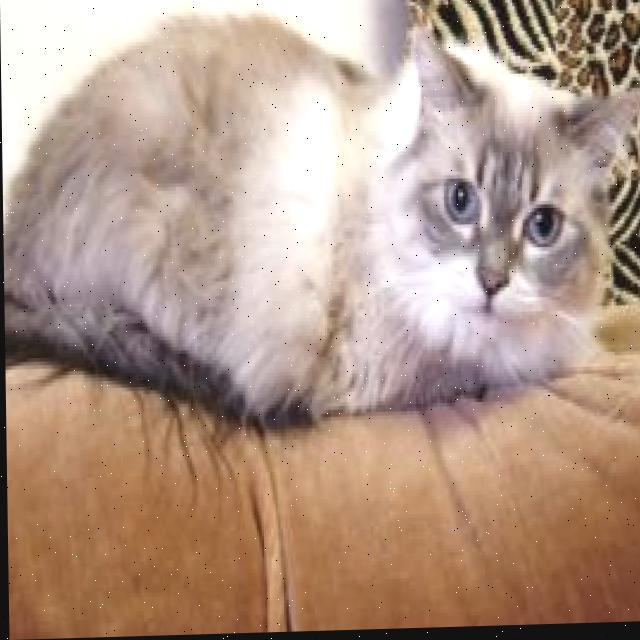Ragdoll: (0, 0, 640, 448)
